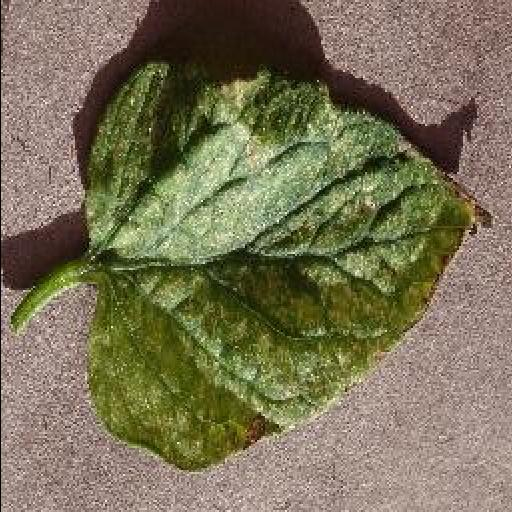disease_tomato: (82, 62, 494, 474)
